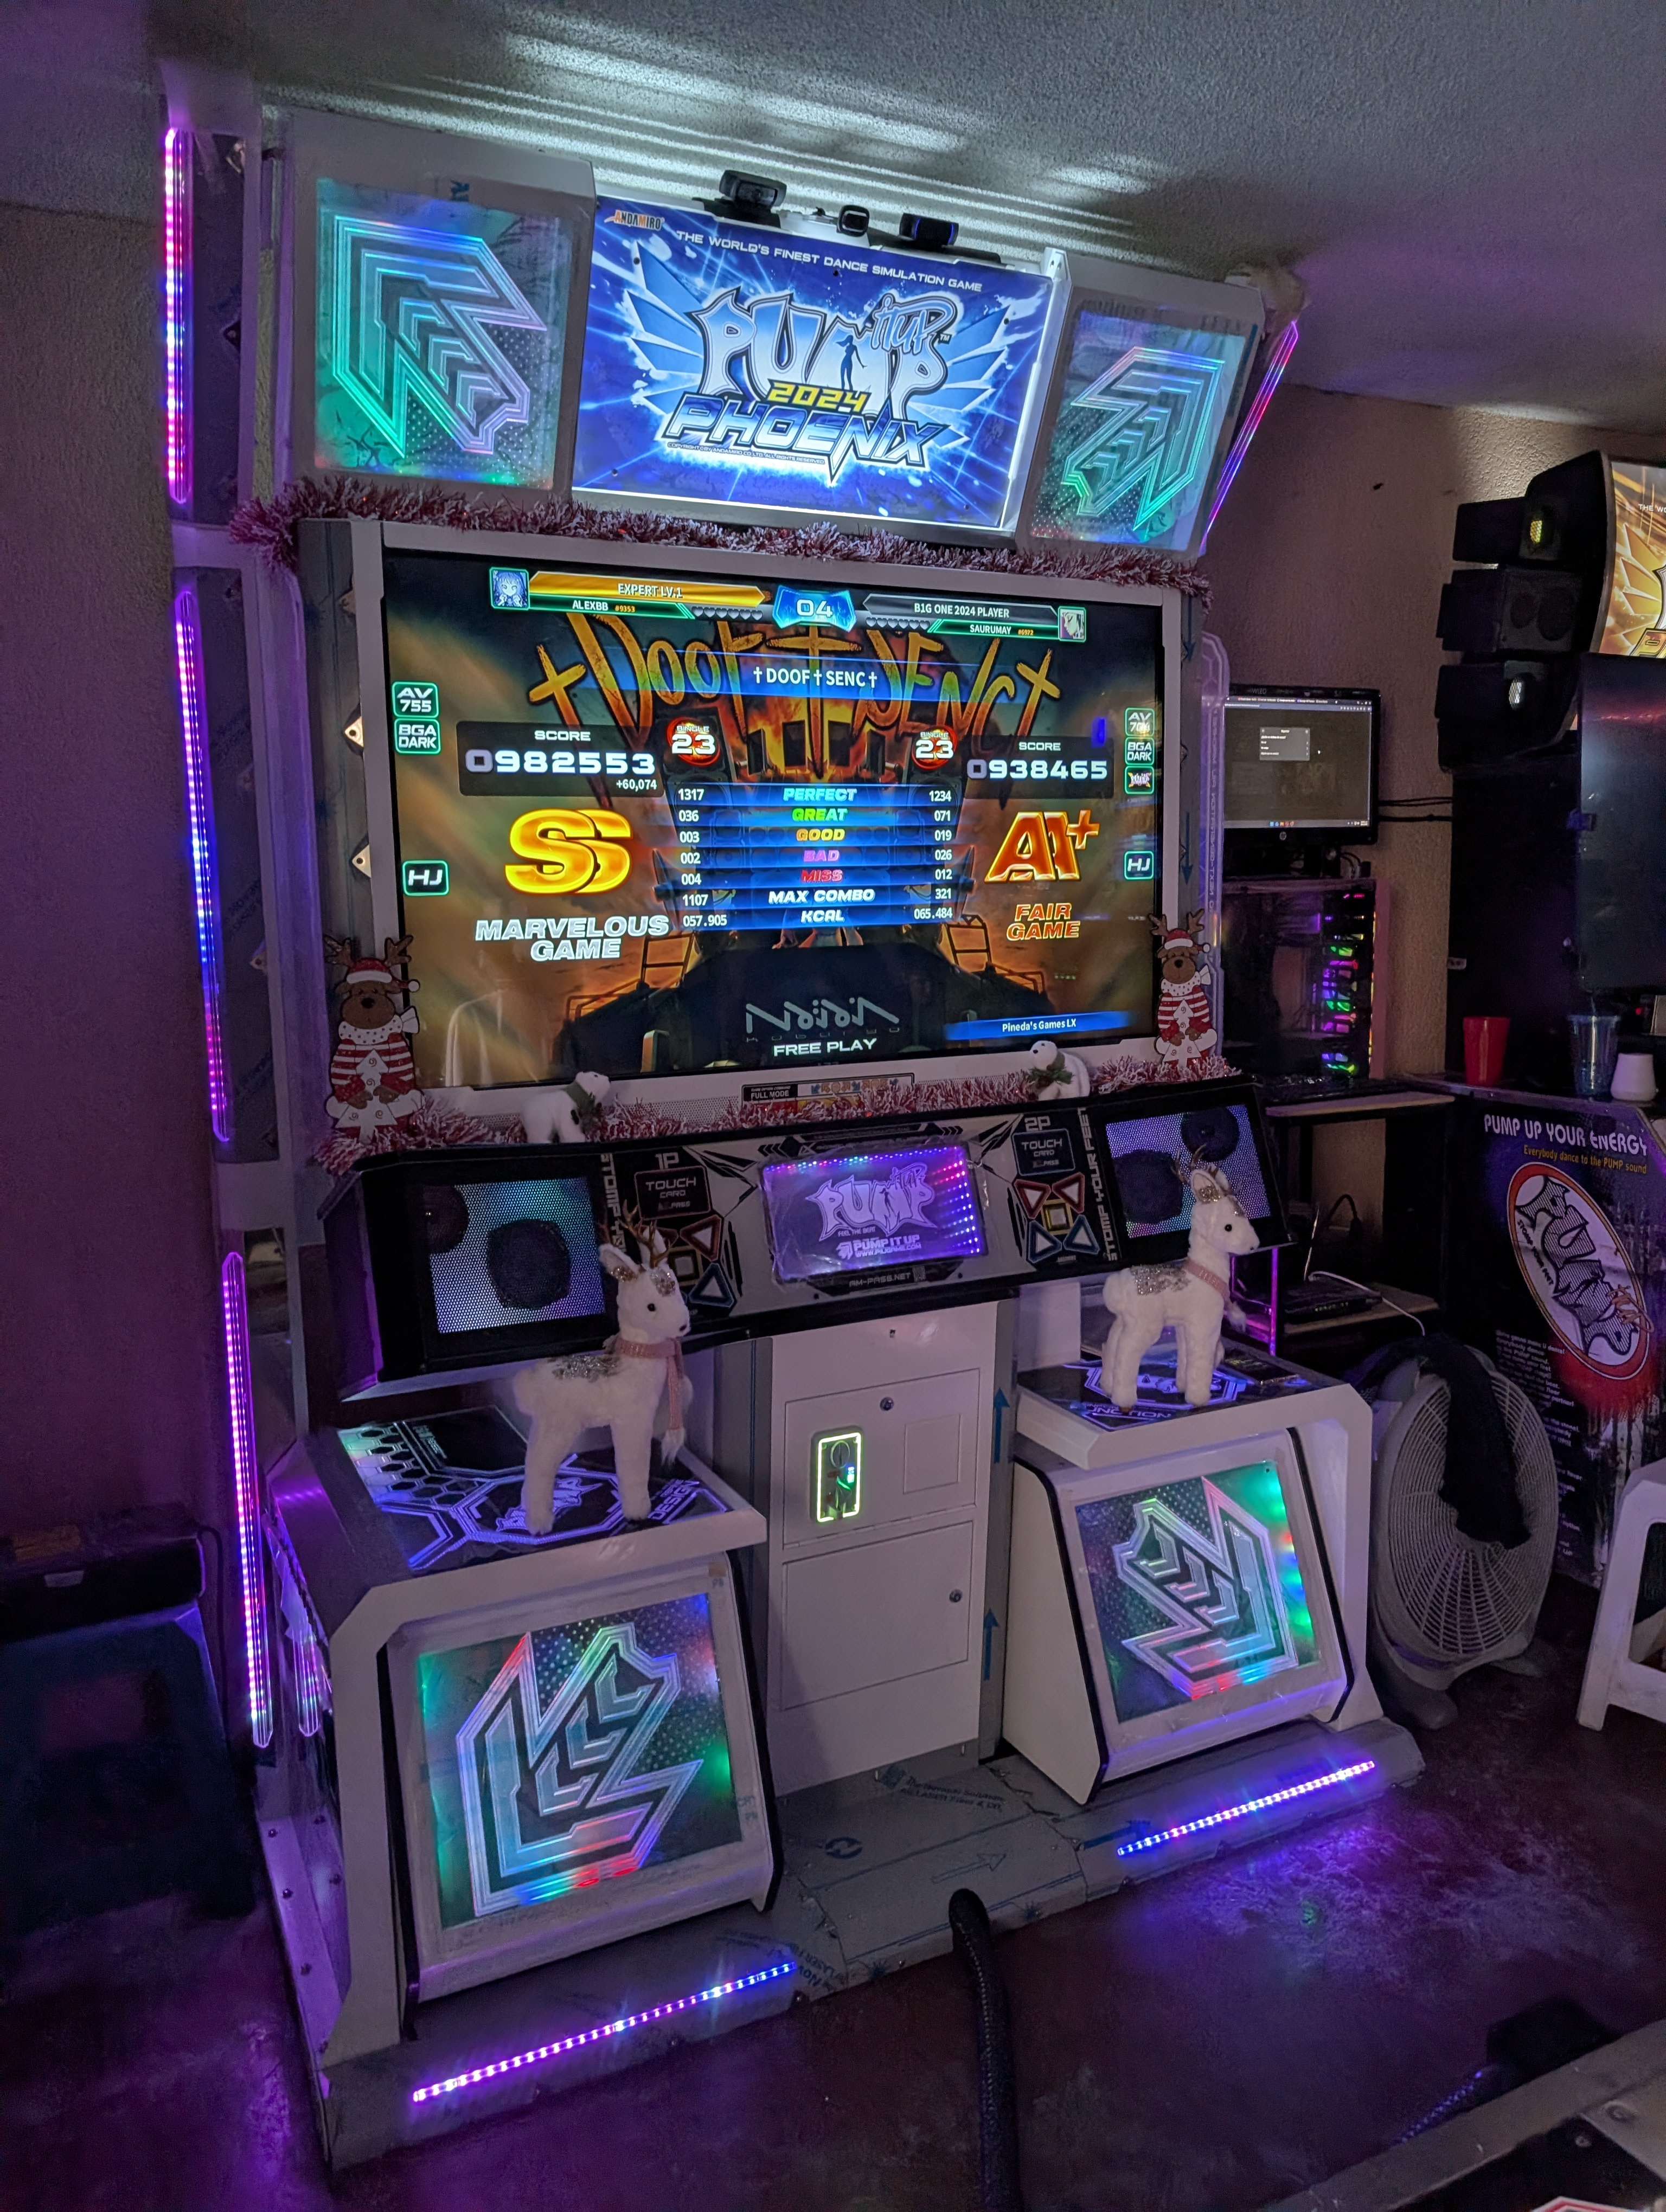difficulty: (667, 736, 795, 787)
fullscore: (406, 491, 1183, 1110)
rank: (487, 790, 653, 904)
score: (459, 722, 663, 803)
song_name: (766, 656, 938, 733)
